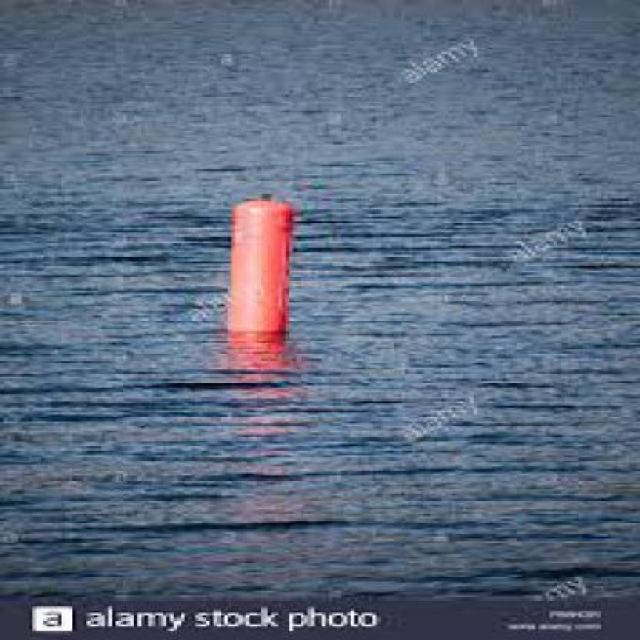buoy: (182, 179, 326, 348)
